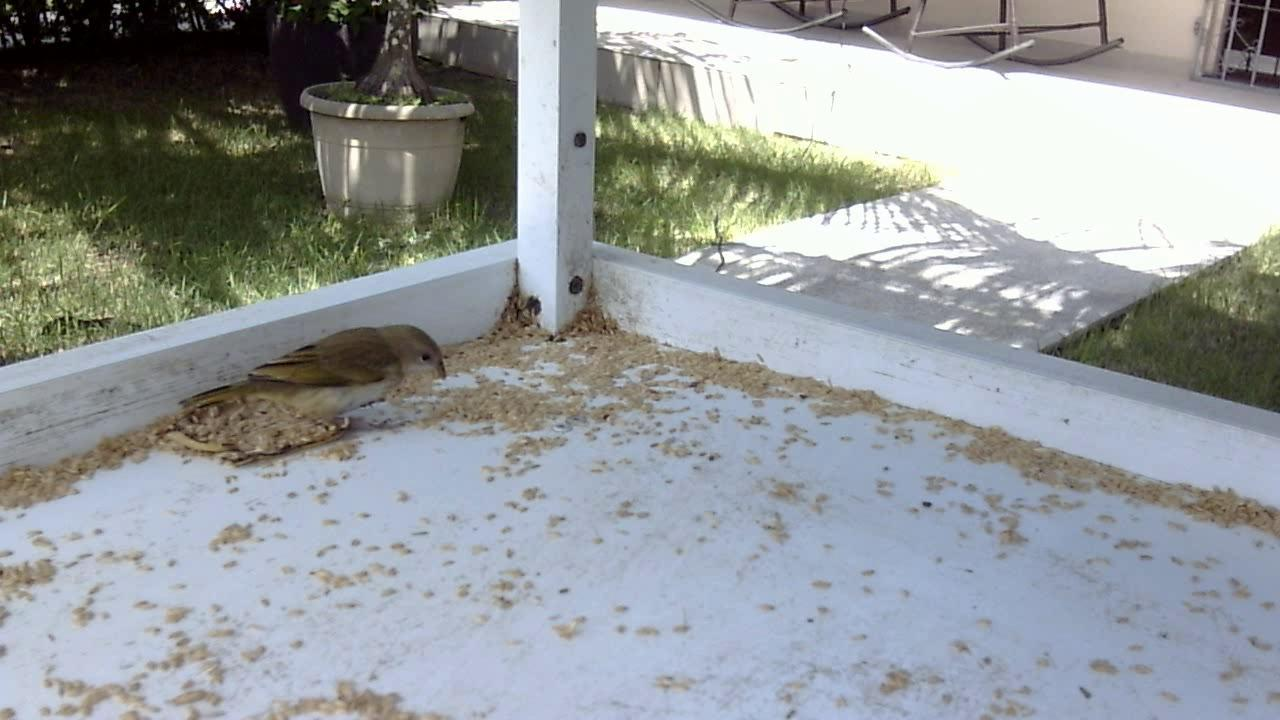canario_do_amazonas: (176, 313, 457, 458)
